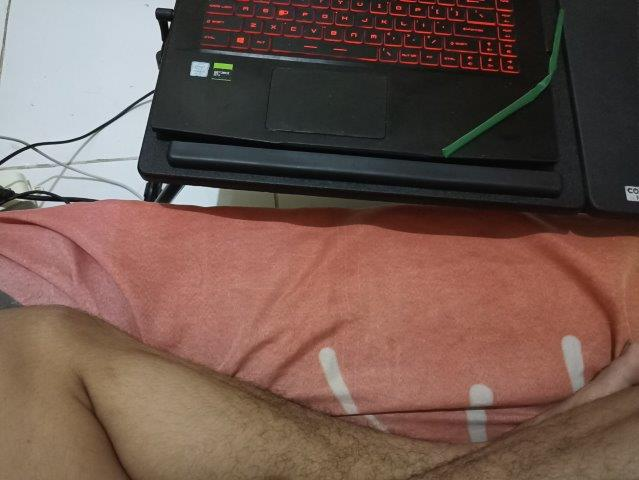sedotan: (442, 11, 564, 155)
